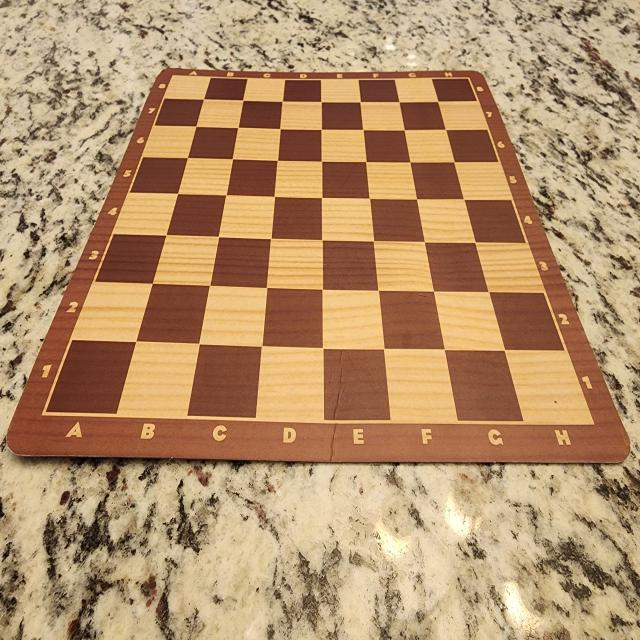Bottom-Left: (45, 344, 135, 414)
Bottom-Right: (507, 352, 593, 426)
Top-Left: (170, 75, 203, 99)
Top-Right: (438, 78, 477, 102)
